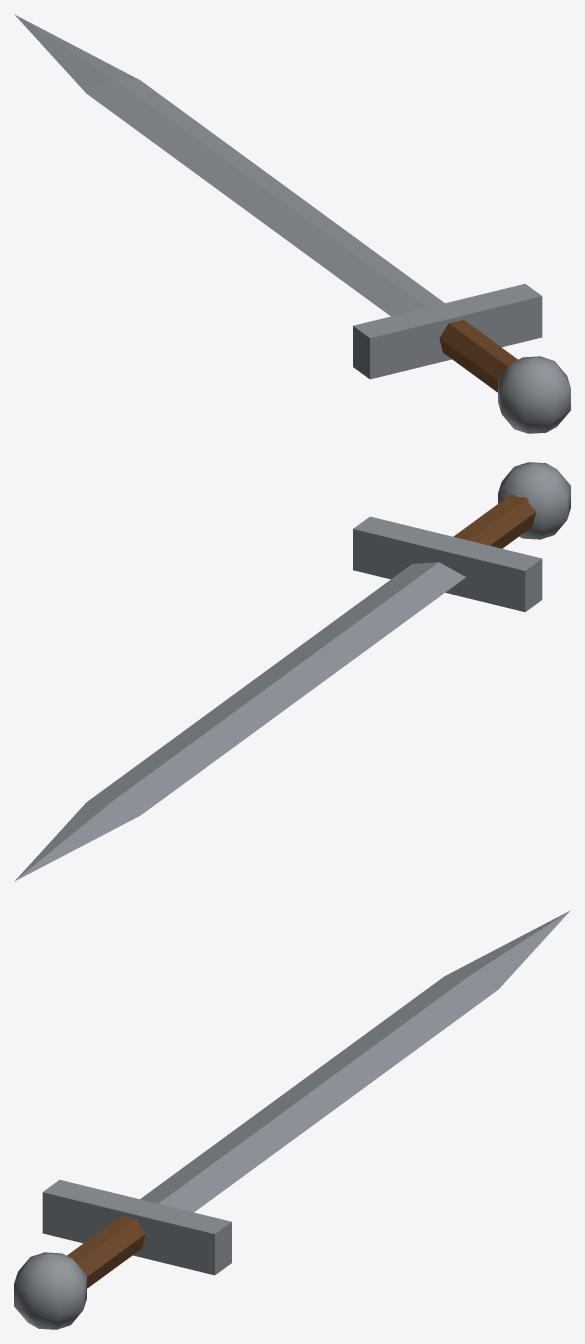
File: Weapon_Sword_Iron.fbx
3 views of the same model, one above another, from view 1: azimuth 30°, elevation 25°; view 2: azimuth 150°, elevation 25°; view 3: azimuth 330°, elevation 25° (orthographic).
Visible parts, largest first — view 1: Weapon_Sword_Iron; view 2: Weapon_Sword_Iron; view 3: Weapon_Sword_Iron.
Boxes of the visible parts, x1,y1,x2,y2 form: Weapon_Sword_Iron: (14, 14, 570, 433); Weapon_Sword_Iron: (14, 462, 570, 881); Weapon_Sword_Iron: (14, 910, 570, 1329).
Bounding box in the file's own units: 0.07 × 0.028 × 0.3793.
